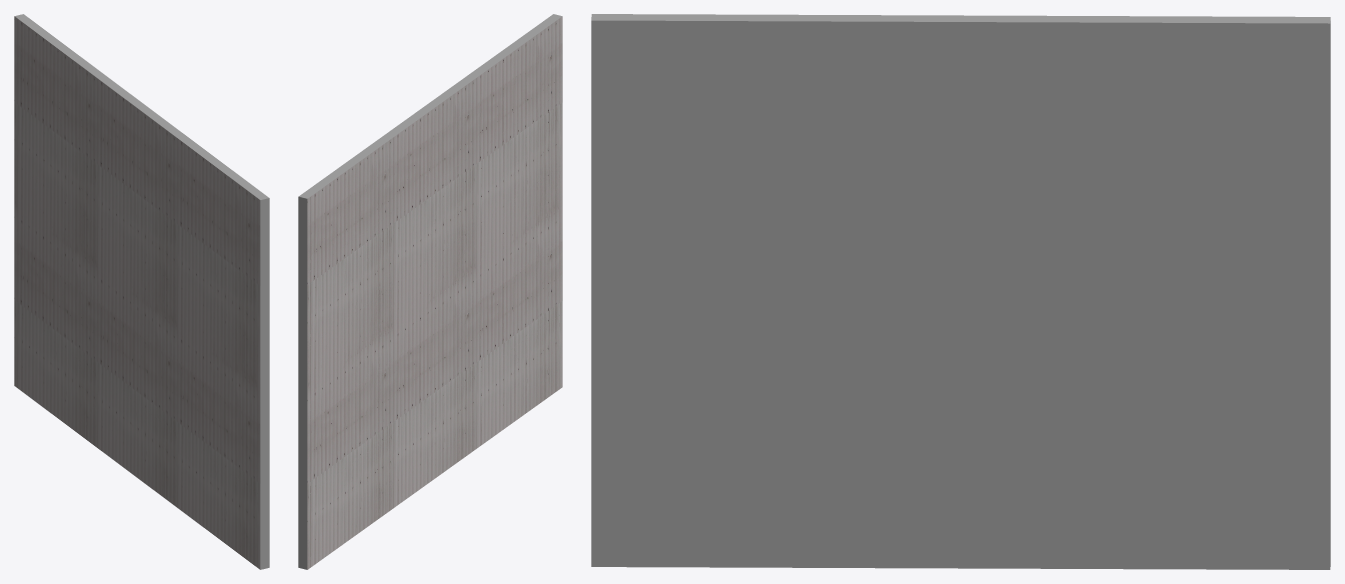
File: WallWarehouse.fbx
The picture shows the model from 3 angles, left to right: view 1: azimuth 30°, elevation 25°; view 2: azimuth 150°, elevation 25°; view 3: azimuth 270°, elevation 25°; orthographic projection. The views are drawn at different scales.
Visible parts, largest first — view 1: pCube113; view 2: pCube113; view 3: pCube113.
Part boxes in pixels (x1,y1,x2,y2): pCube113: (14,14,269,569); pCube113: (298,14,562,569); pCube113: (591,14,1330,569).
Size of the model in its own units: 0.9134 by 24.48 by 30.
2 materials, 1 textured.
